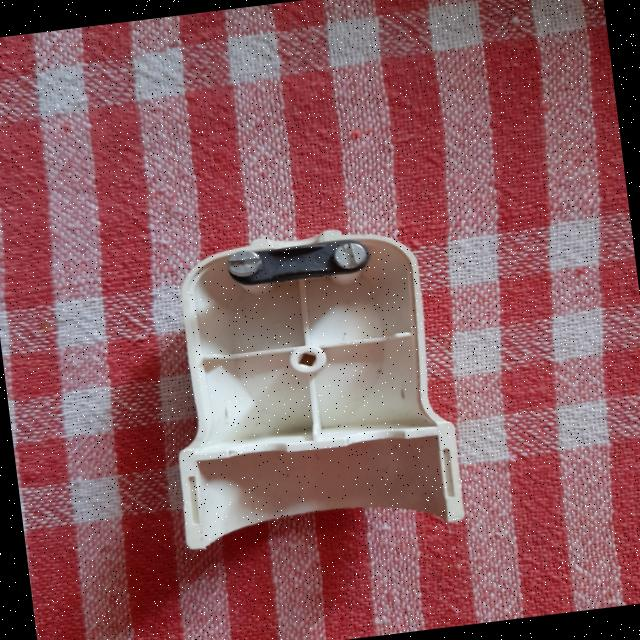Slotted: (224, 248, 262, 278), (331, 240, 369, 270)
